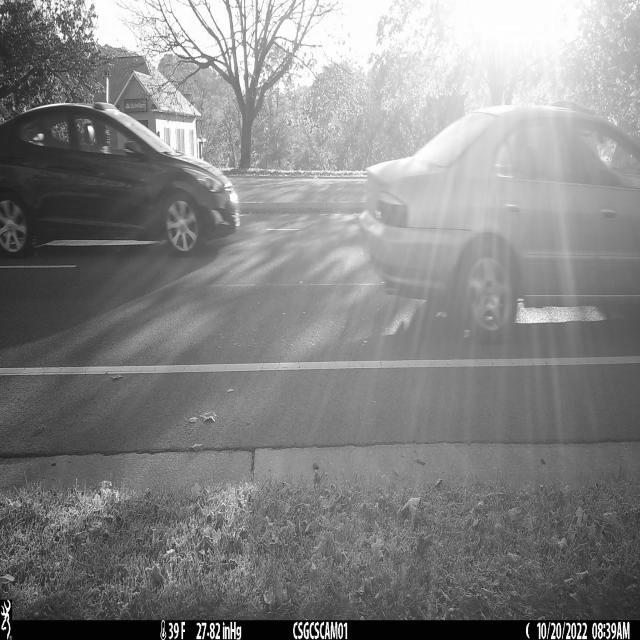Sedan: (356, 102, 640, 333), (2, 98, 240, 257)
